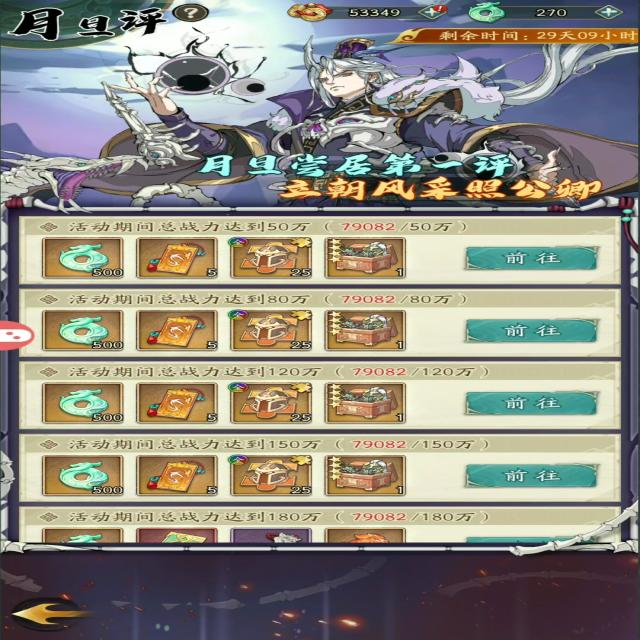hint-reddot: (430, 1, 447, 14)
operation-back: (6, 600, 107, 628)
operation-confirm: (447, 459, 612, 492), (464, 315, 603, 350), (452, 389, 604, 420), (458, 244, 604, 275)
operation-rule: (164, 1, 213, 23)
ref-buytext: (51, 285, 472, 308), (58, 362, 518, 382), (55, 216, 478, 237), (59, 436, 498, 454), (53, 509, 498, 526)
